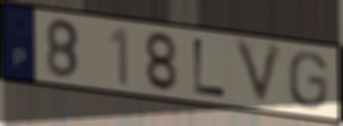1: (109, 26, 130, 88)
8: (142, 30, 180, 93), (44, 17, 80, 81)
G: (287, 50, 330, 111)
L: (191, 36, 229, 100)
V: (232, 37, 287, 110)
